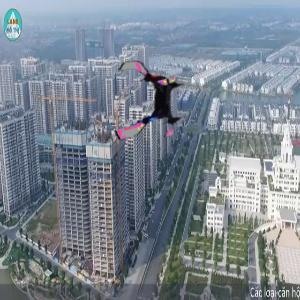drone: (104, 56, 193, 145)
